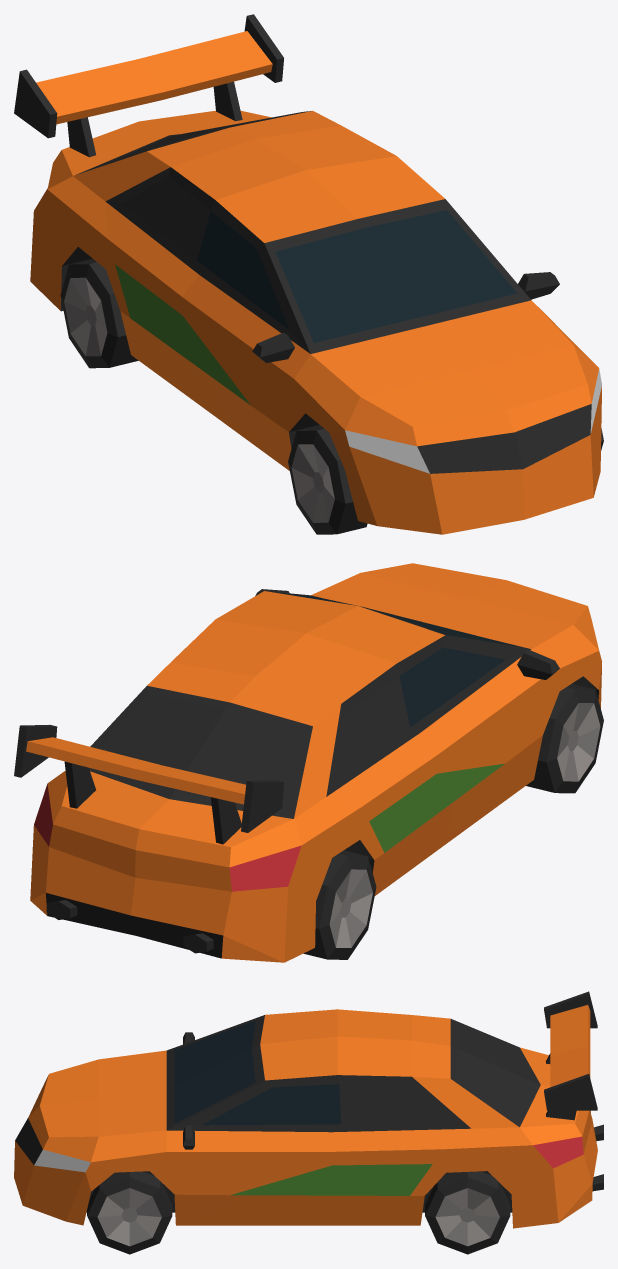
The model's file is car-passenger-race.glb.
The picture shows the model from 3 angles, top to bottom: view 1: azimuth 30°, elevation 25°; view 2: azimuth 150°, elevation 25°; view 3: azimuth 270°, elevation 25°; orthographic projection. The views are drawn at different scales.
Visible parts, largest first — view 1: car-passenger-race-base, car-passenger-race-wheel_BR, car-passenger-race-wheel_FR; view 2: car-passenger-race-base, car-passenger-race-wheel_FR, car-passenger-race-wheel_BR; view 3: car-passenger-race-base, car-passenger-race-wheel_BL, car-passenger-race-wheel_FL.
Boxes of the visible parts, box(x1,y1,x2,y2) form: car-passenger-race-base: box(14, 14, 601, 534); car-passenger-race-wheel_BR: box(60, 258, 138, 368); car-passenger-race-wheel_FR: box(288, 425, 367, 534); car-passenger-race-base: box(14, 563, 601, 962); car-passenger-race-wheel_FR: box(526, 684, 603, 793); car-passenger-race-wheel_BR: box(303, 850, 376, 959); car-passenger-race-base: box(14, 991, 603, 1228); car-passenger-race-wheel_BL: box(425, 1171, 510, 1254); car-passenger-race-wheel_FL: box(87, 1171, 172, 1254).
Bounding box in the file's own units: 2.1 × 1.57 × 4.81.
1 material, 1 textured.
